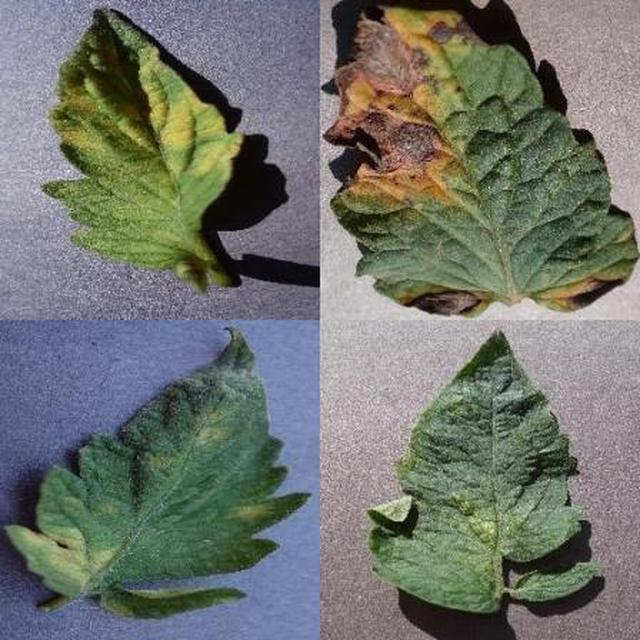Leaf Mold: (205, 196, 640, 640)
